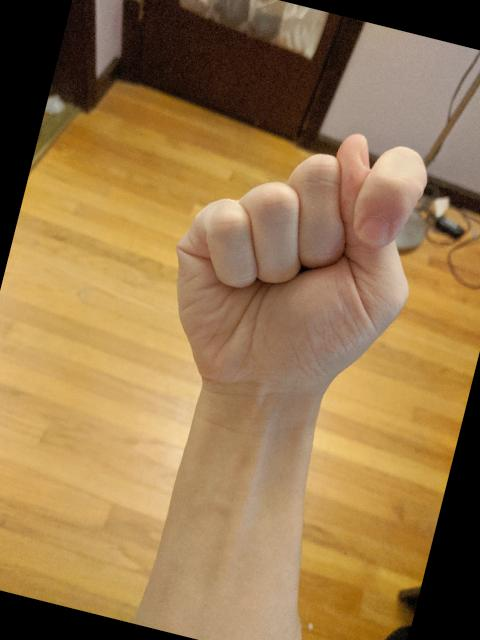T: (136, 88, 452, 441)
